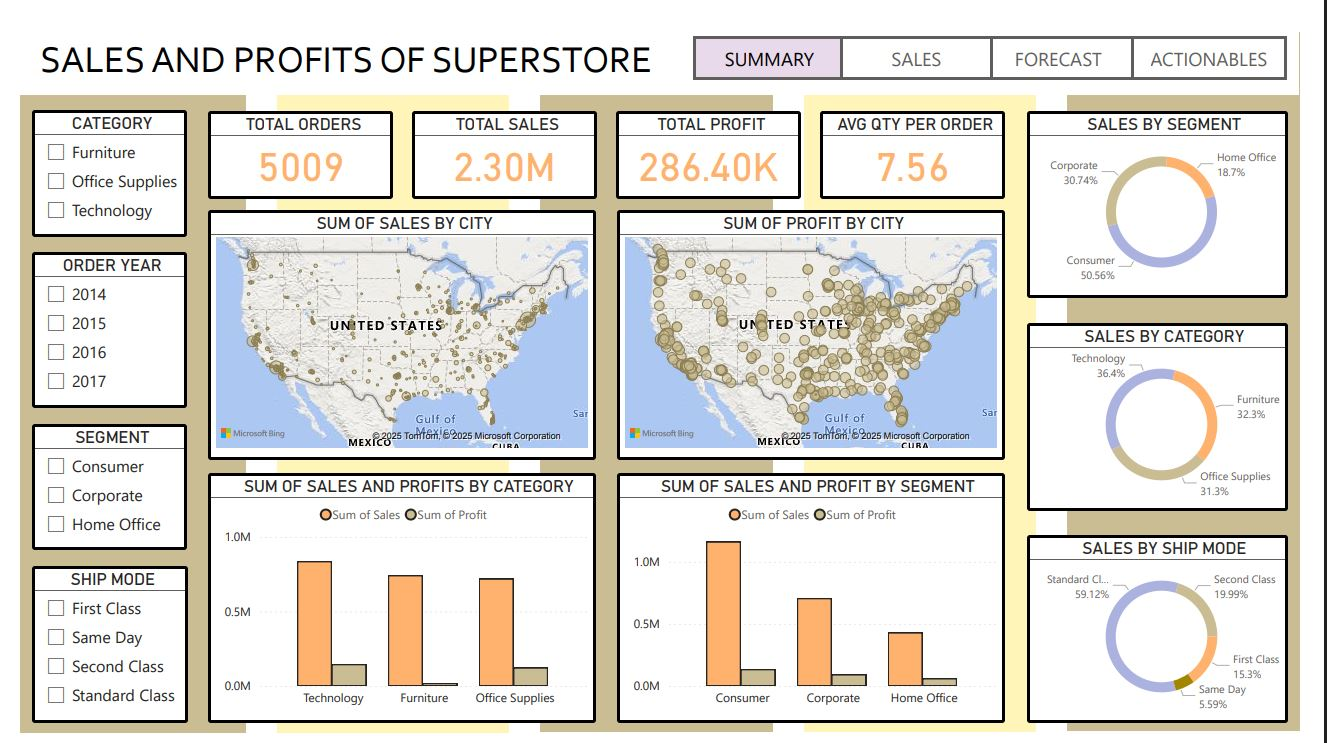

What the dashboard file says about the page in this screenshot:
{"tool":"powerbi","page":{"name":"Summary","canvas":[1280,720],"ordinal":0},"visuals":[{"type":"shape","box":[520.1,11.2,233.2,699.5],"z":0},{"type":"shape","box":[784.3,10.6,231.9,700.7],"z":1000},{"type":"shape","box":[1046.8,10.9,233.2,699.5],"z":2000},{"type":"shape","box":[257,10,231.9,701.9],"z":3000},{"type":"shape","box":[0,10,225.9,701.9],"z":4000},{"type":"card","title":"TOTAL SALES","fields":{"Values":["Sum(Sheet6.Sales)"]},"box":[392,89.6,184.9,88.1],"z":5000},{"type":"card","title":"TOTAL PROFIT","fields":{"Values":["Sum(Sheet6.Profit)"]},"box":[596.2,89.6,184.9,88.1],"z":6000},{"type":"card","title":"TOTAL ORDERS","fields":{"Values":["Sheet6.Total Orders"]},"box":[187.8,89.6,184.9,88.1],"z":7000},{"type":"card","title":"AVG QTY PER ORDER","fields":{"Values":["Sheet6.Average Quantity Per Order"]},"box":[800.4,89.6,184.9,88.1],"z":8000},{"type":"map","title":"SUM OF SALES BY CITY","fields":{"Category":["Sheet6.City"],"Size":["Sum(Sheet6.Sales)"]},"box":[187.8,189.3,388.6,249.9],"z":9000},{"type":"map","title":"SUM OF PROFIT BY CITY","fields":{"Category":["Sheet6.City"],"Size":["Sum(Sheet6.Profit Margin %)"]},"box":[596.7,189.3,388.6,249.9],"z":10000},{"type":"clusteredColumnChart","title":"SUM OF SALES AND PROFITS BY CATEGORY","fields":{"Y":["Sum(Sheet6.Sales)","Sum(Sheet6.Profit)"],"Category":["Sheet6.Category"]},"box":[187.8,452.2,388.6,249.9],"z":11000},{"type":"clusteredColumnChart","title":"SUM OF SALES AND PROFIT BY SEGMENT","fields":{"Y":["Sum(Sheet6.Sales)","Sum(Sheet6.Profit)"],"Category":["Sheet6.Segment"]},"box":[596.7,452.2,388.6,249.9],"z":12000},{"type":"donutChart","title":"SALES BY CATEGORY","fields":{"Y":["Sum(Sheet6.Sales)"],"Category":["Sheet6.Category"]},"box":[1007,301.9,261.5,187.8],"z":13000},{"type":"donutChart","title":"SALES BY SEGMENT","fields":{"Y":["Sum(Sheet6.Sales)"],"Category":["Sheet6.Segment"]},"box":[1007,89.6,261.5,187.8],"z":14000},{"type":"slicer","title":"SEGMENT","fields":{"Values":["Sheet6.Segment"]},"box":[11.8,402.9,155.6,126.2],"z":15000},{"type":"slicer","title":"CATEGORY","fields":{"Values":["Sheet6.Category"]},"box":[11.8,89.3,155.6,126.2],"z":16000},{"type":"slicer","title":"SHIP MODE","fields":{"Values":["Sheet6.Ship Mode"]},"box":[11.6,544.7,156,157.5],"z":17000},{"type":"slicer","title":"ORDER YEAR","fields":{"Values":["Sheet6.Order Year"]},"box":[11.8,231.1,155.6,156.1],"z":18000},{"type":"donutChart","title":"SALES BY SHIP MODE","fields":{"Y":["Sum(Sheet6.Sales)"],"Category":["Sheet6.Ship Mode"]},"box":[1007,514.3,261.5,187.8],"z":19000},{"type":"textbox","box":[0,9.6,1279.1,64.2],"z":20000},{"type":"actionButton","box":[672.8,14.7,152.8,44.5],"z":21000},{"type":"actionButton","box":[960.1,14.5,157,44.7],"z":22000},{"type":"actionButton","box":[820,14.5,153.4,44.7],"z":23000},{"type":"actionButton","box":[1110.8,14.5,156,44.8],"z":24000}]}

Visuals, with their boxes in screenshot pixels (x1, y1, x2, y2), scaled from the page's 1280x720 canvas onto the 1327x743 screenshot:
shape: bbox(539, 12, 781, 733)
shape: bbox(813, 11, 1054, 734)
shape: bbox(1085, 11, 1326, 733)
shape: bbox(266, 10, 507, 735)
shape: bbox(0, 10, 234, 735)
"TOTAL SALES" card: bbox(406, 92, 598, 183)
"TOTAL PROFIT" card: bbox(618, 92, 810, 183)
"TOTAL ORDERS" card: bbox(195, 92, 386, 183)
"AVG QTY PER ORDER" card: bbox(830, 92, 1021, 183)
"SUM OF SALES BY CITY" map: bbox(195, 195, 598, 453)
"SUM OF PROFIT BY CITY" map: bbox(619, 195, 1021, 453)
"SUM OF SALES AND PROFITS BY CATEGORY" clusteredColumnChart: bbox(195, 467, 598, 725)
"SUM OF SALES AND PROFIT BY SEGMENT" clusteredColumnChart: bbox(619, 467, 1021, 725)
"SALES BY CATEGORY" donutChart: bbox(1044, 312, 1315, 505)
"SALES BY SEGMENT" donutChart: bbox(1044, 92, 1315, 286)
"SEGMENT" slicer: bbox(12, 416, 174, 546)
"CATEGORY" slicer: bbox(12, 92, 174, 222)
"SHIP MODE" slicer: bbox(12, 562, 174, 725)
"ORDER YEAR" slicer: bbox(12, 238, 174, 400)
"SALES BY SHIP MODE" donutChart: bbox(1044, 531, 1315, 725)
textbox: bbox(0, 10, 1326, 76)
actionButton: bbox(698, 15, 856, 61)
actionButton: bbox(995, 15, 1158, 61)
actionButton: bbox(850, 15, 1009, 61)
actionButton: bbox(1152, 15, 1313, 61)
